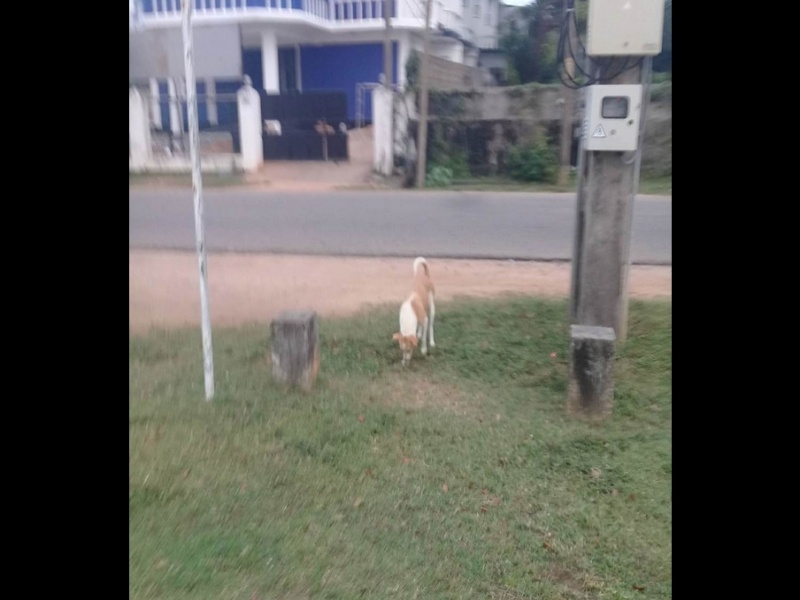dog: (382, 255, 445, 371)
